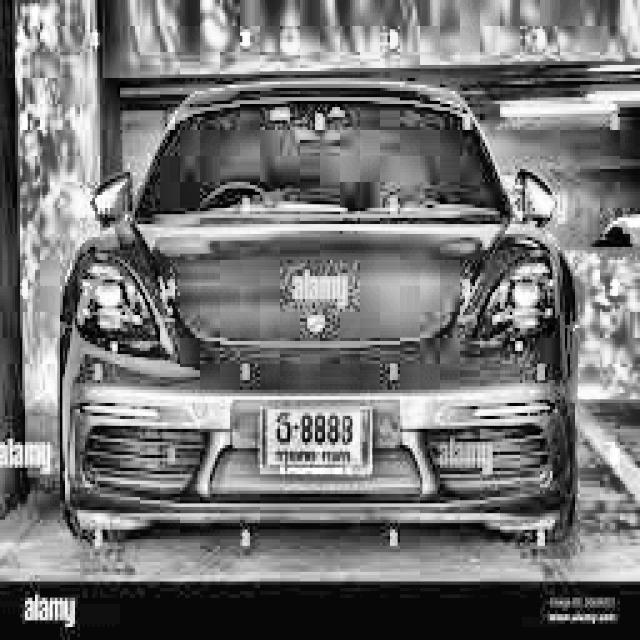license-plate: (256, 402, 374, 478)
